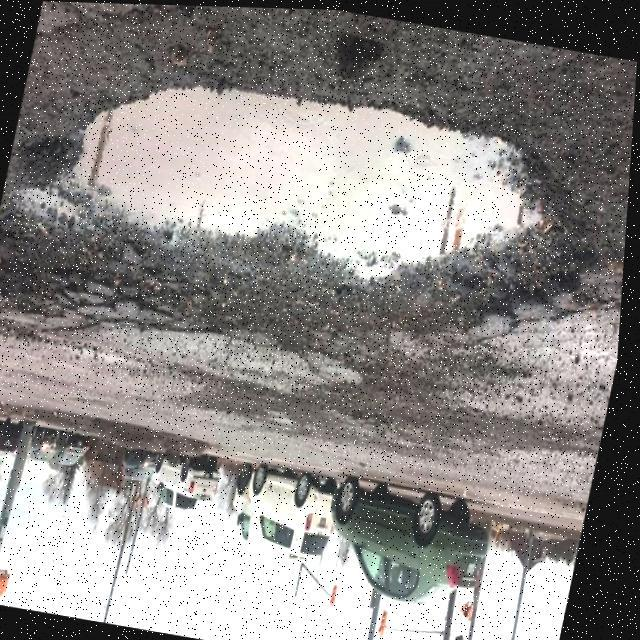pothole: (0, 37, 610, 377)
